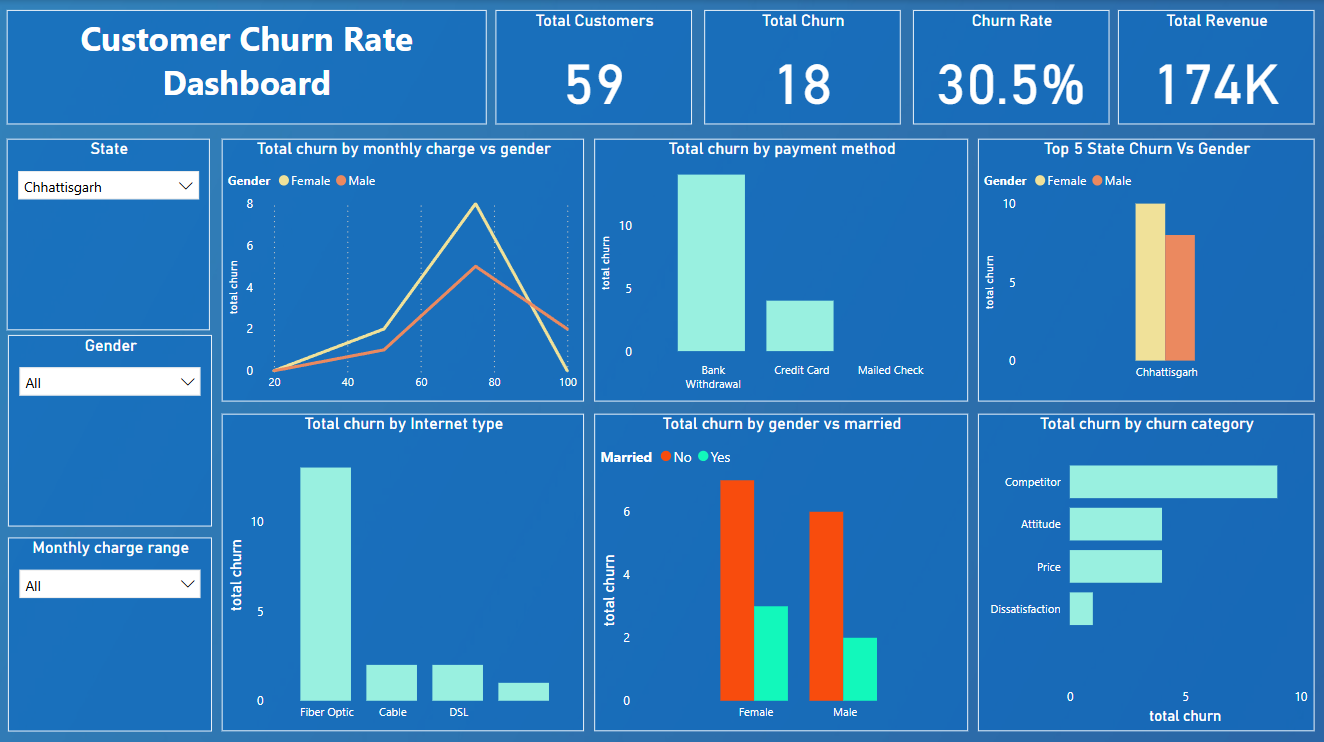

This screenshot's page, from the dashboard's own definition file:
{"tool":"powerbi","page":{"name":"Page 1","canvas":[1280,720],"ordinal":0},"visuals":[{"type":"card","title":"Total Customers","fields":{"Values":["tbl_measure.Total_Customers"]},"box":[480.6,9.8,189.5,110.1],"z":0},{"type":"card","title":"Total Churn","fields":{"Values":["tbl_measure.total churn"]},"box":[681.1,9.8,189.5,110.1],"z":1000},{"type":"clusteredColumnChart","title":"Total churn by gender vs married","fields":{"Category":["Customer_Data.Gender"],"Y":["tbl_measure.total churn"],"Series":["Customer_Data.Married"]},"box":[575.5,399.3,360.7,306.4],"z":2000},{"type":"card","title":"Churn Rate","fields":{"Values":["tbl_measure.Churn Rate"]},"box":[882.9,9.8,189.5,110.1],"z":3000},{"type":"card","title":"Total Revenue","fields":{"Values":["tbl_measure.Total_Revenue"]},"box":[1081,9.8,189.5,110.1],"z":4000},{"type":"columnChart","title":"Total churn by payment method","fields":{"Category":["Customer_Data.Payment_Method"],"Y":["tbl_measure.total churn"]},"box":[575.5,133.9,360.7,253.4],"z":5000},{"type":"clusteredColumnChart","title":"Top 5 State Churn Vs Gender","fields":{"Category":["Customer_Data.State"],"Y":["tbl_measure.total churn"],"Series":["Customer_Data.Gender"]},"box":[945.8,133.9,324.5,253.4],"z":6000},{"type":"lineChart","title":"Total churn by monthly charge vs gender","fields":{"Category":["Customer_Data.Monthly_Charge_Staus"],"Y":["tbl_measure.total churn"],"Series":["Customer_Data.Gender"]},"box":[216,133.9,349.9,253.4],"z":7000},{"type":"textbox","box":[8.6,9.8,463.5,110.1],"z":8000},{"type":"barChart","title":"Total churn by churn category","fields":{"Category":["Customer_Data.Churn_Category"],"Y":["tbl_measure.total churn"]},"box":[945.8,399.3,324.5,306.4],"z":9000},{"type":"columnChart","title":"Total churn by Internet type","fields":{"Y":["tbl_measure.total churn"],"Category":["Customer_Data.Internet_Type"]},"box":[216,399.3,349.9,306.4],"z":10000},{"type":"slicer","title":"State","fields":{"Values":["Customer_Data.State"]},"box":[8.4,133.9,196,185],"z":11000},{"type":"slicer","title":"Gender","fields":{"Values":["Customer_Data.Gender"]},"box":[9.7,323.3,196.6,184.6],"z":12000},{"type":"slicer","title":"Monthly charge range","fields":{"Values":["Customer_Data.Monthly_Charge_Staus"]},"box":[9.7,518.8,196.6,187],"z":13000}]}

Visuals, with their boxes in screenshot pixels (x1, y1, x2, y2), scaled from the page's 1280x720 canvas onto the 1324x742 screenshot:
"Total Customers" card: crop(497, 10, 693, 124)
"Total Churn" card: crop(705, 10, 901, 124)
"Total churn by gender vs married" clusteredColumnChart: crop(595, 412, 968, 727)
"Churn Rate" card: crop(913, 10, 1109, 124)
"Total Revenue" card: crop(1118, 10, 1314, 124)
"Total churn by payment method" columnChart: crop(595, 138, 968, 399)
"Top 5 State Churn Vs Gender" clusteredColumnChart: crop(978, 138, 1314, 399)
"Total churn by monthly charge vs gender" lineChart: crop(223, 138, 585, 399)
textbox: crop(9, 10, 488, 124)
"Total churn by churn category" barChart: crop(978, 412, 1314, 727)
"Total churn by Internet type" columnChart: crop(223, 412, 585, 727)
"State" slicer: crop(9, 138, 211, 329)
"Gender" slicer: crop(10, 333, 213, 523)
"Monthly charge range" slicer: crop(10, 535, 213, 727)
